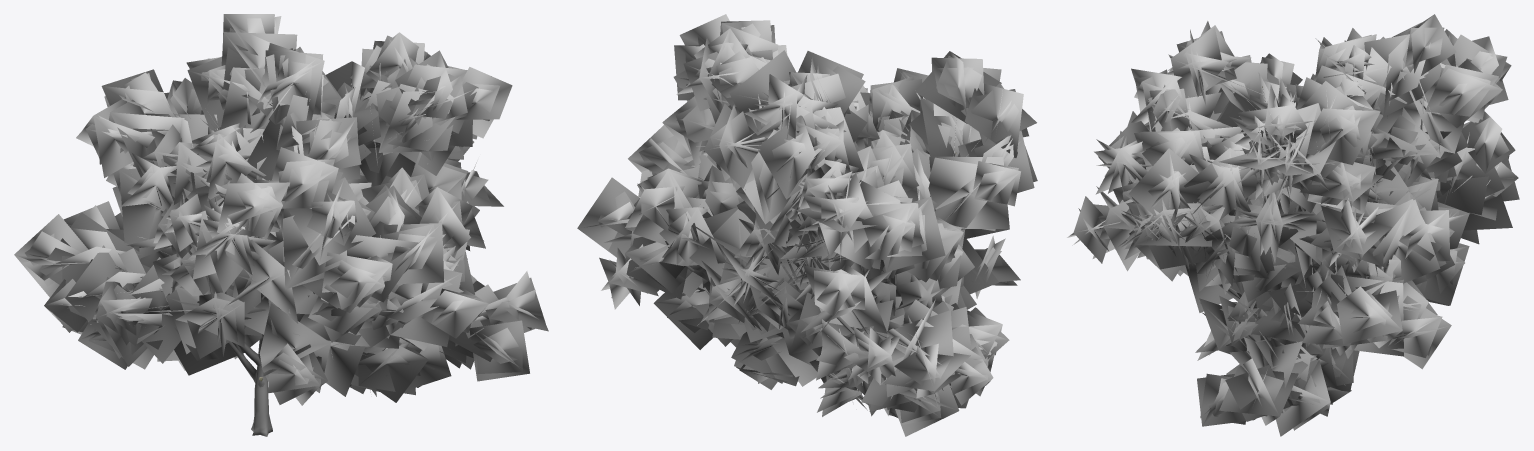
The model's file is MapleBigLeaf_D.fbx.
The picture shows the model from 3 angles, left to right: view 1: azimuth 30°, elevation 25°; view 2: azimuth 150°, elevation 25°; view 3: azimuth 270°, elevation 25°; orthographic projection.
Visible parts, largest first — view 1: MapleBigLeaf_D_LOD0; view 2: MapleBigLeaf_D_LOD0; view 3: MapleBigLeaf_D_LOD0.
Part boxes in pixels (<box>): MapleBigLeaf_D_LOD0: <box>14,14,548,436</box>; MapleBigLeaf_D_LOD0: <box>577,14,1037,436</box>; MapleBigLeaf_D_LOD0: <box>1067,14,1519,436</box>.
Size of the model in its own units: 2718 by 2219 by 2536.
